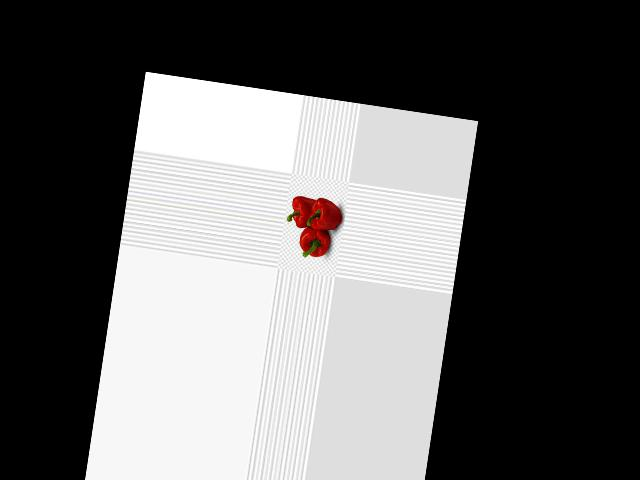bell_pepper: (293, 221, 335, 262)
